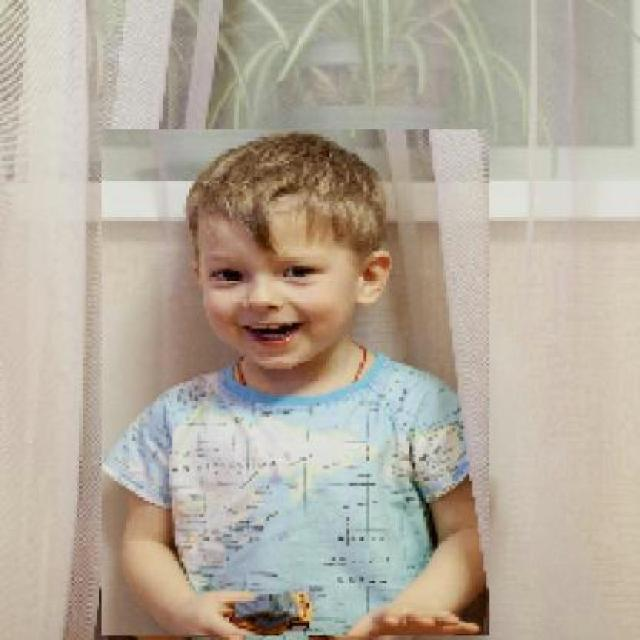child: (100, 129, 489, 637)
